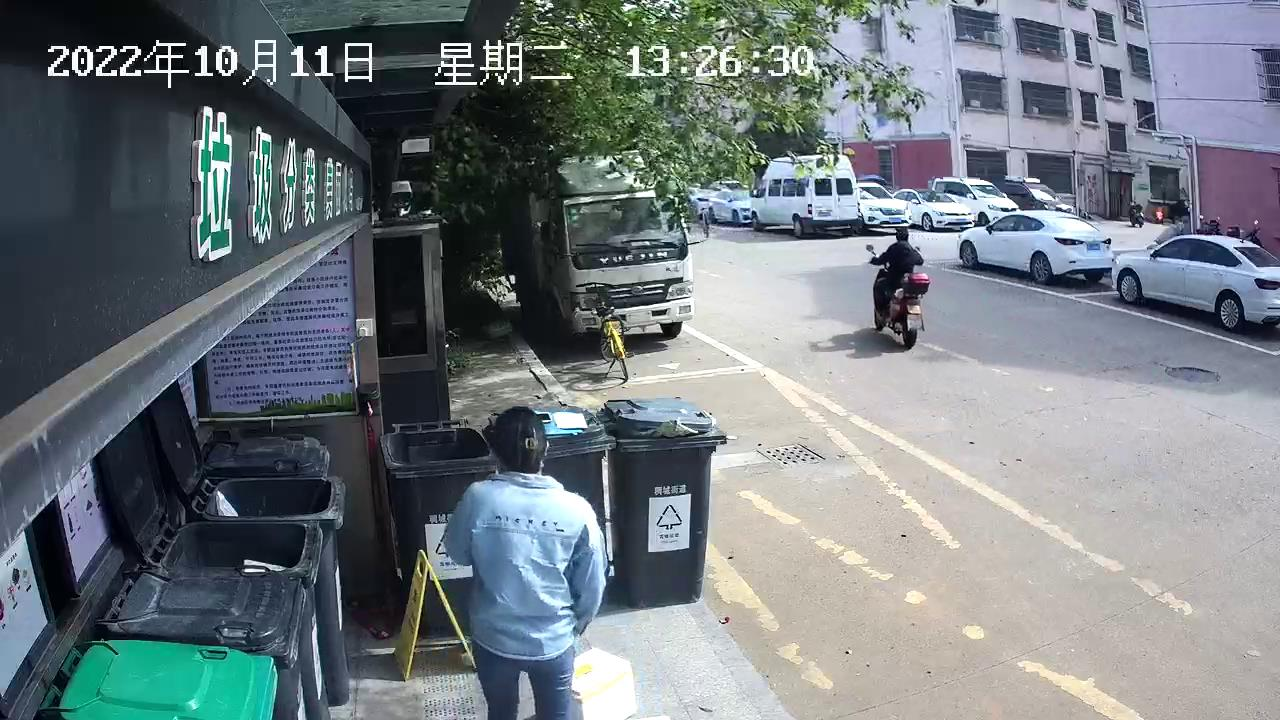worker: (438, 402, 614, 720)
zhizhipin: (438, 402, 615, 720), (569, 642, 640, 720)
